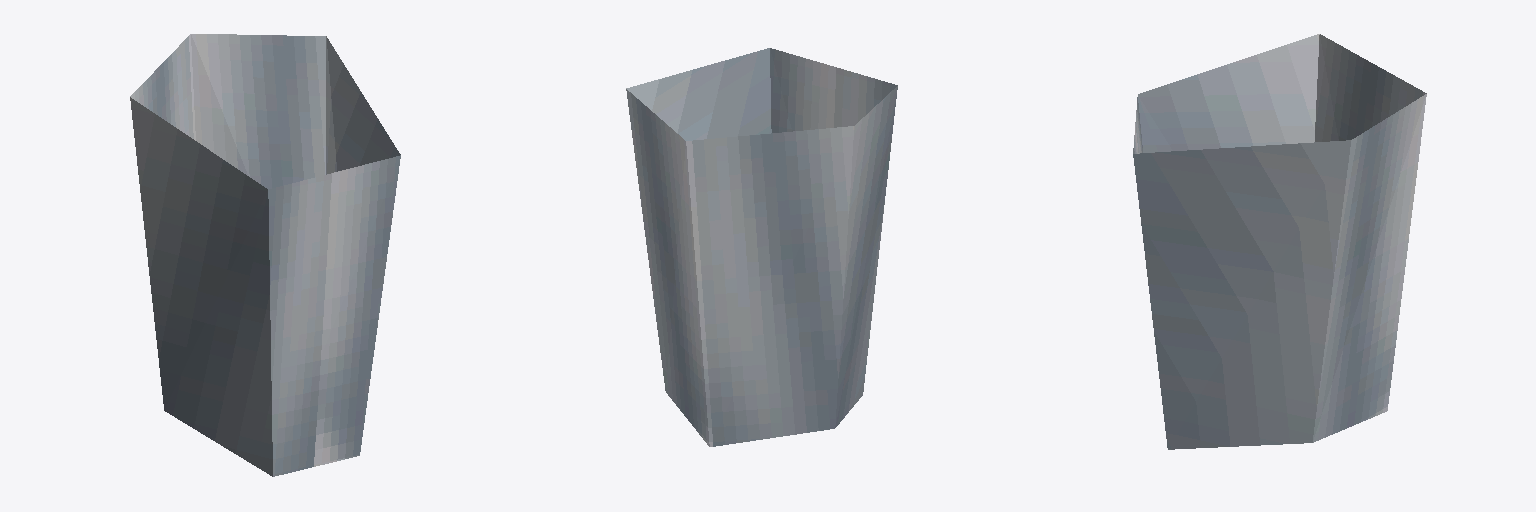
3 views of the same model, side by side, from view 1: azimuth 30°, elevation 25°; view 2: azimuth 150°, elevation 25°; view 3: azimuth 270°, elevation 25° (orthographic).
Parts seen in each view (by area): view 1: AdultLink; view 2: AdultLink; view 3: AdultLink.
Boxes of the visible parts, x1,y1,x2,y2 form: AdultLink: [130, 34, 400, 476]; AdultLink: [626, 48, 897, 446]; AdultLink: [1133, 34, 1426, 449].
Bounding box in the file's own units: 0.9959 × 1.53 × 1.19.
1 materials, 1 textured.